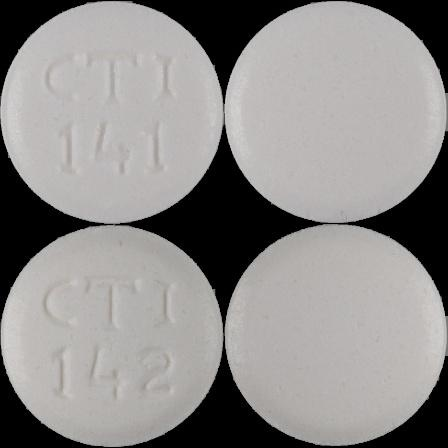61442-141: (0, 0, 224, 224)
